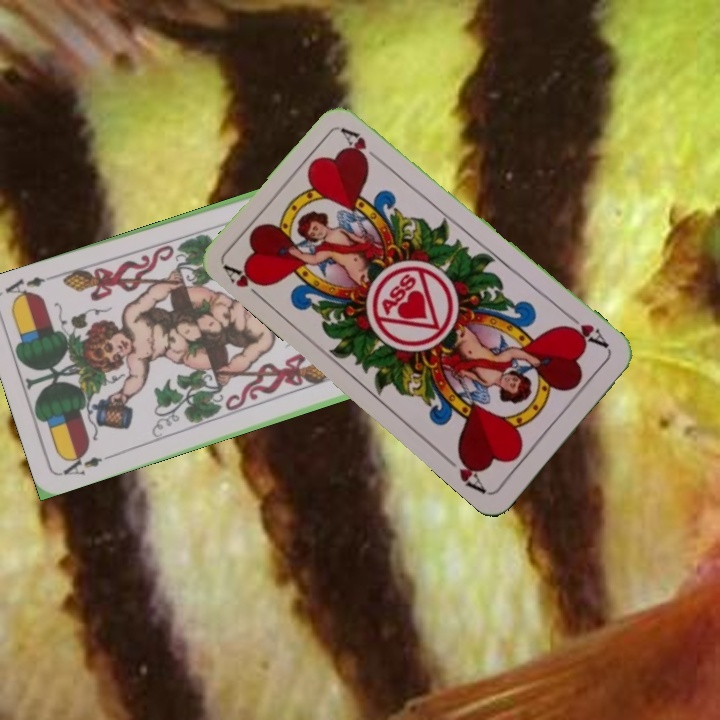EA: (59, 448, 105, 478)
HA: (559, 310, 612, 354), (220, 261, 270, 306)
